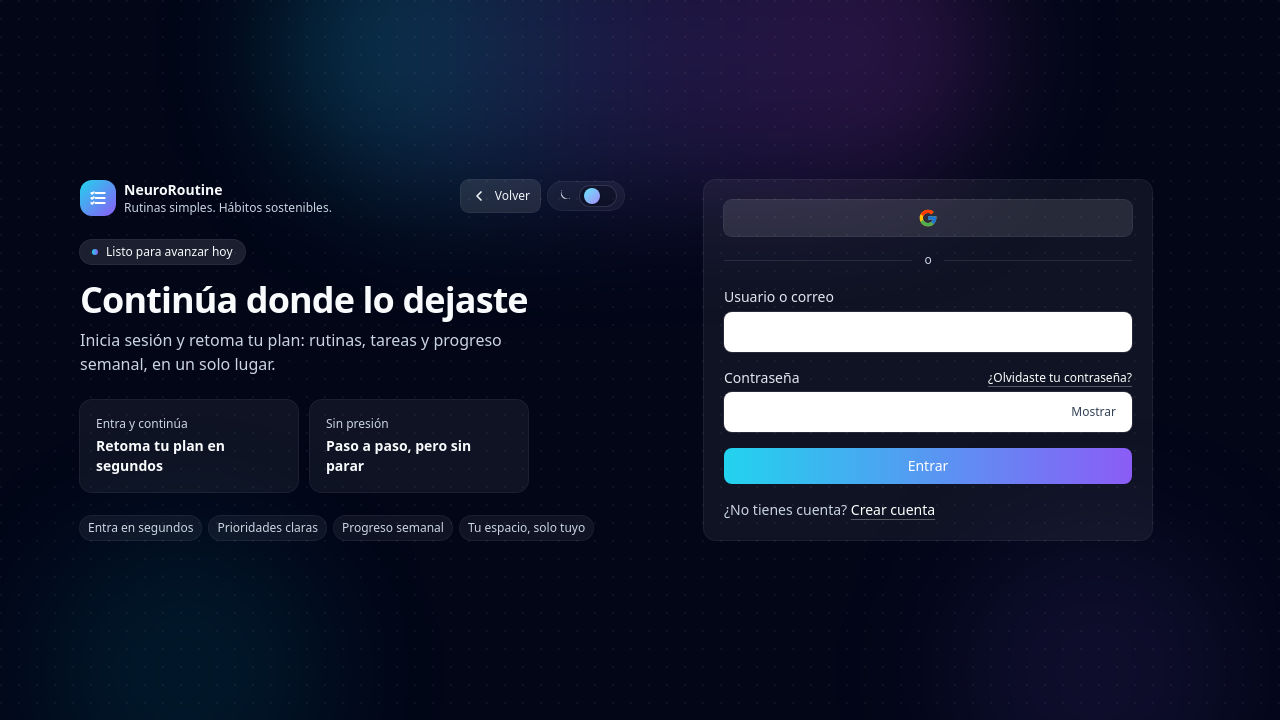
Scenario: LoginPage › shows a generic error message when sign-in fails with a non-Error value
In the field with test id "login-identifier": (928,332) [724,312,1132,352], type "me@example.com"
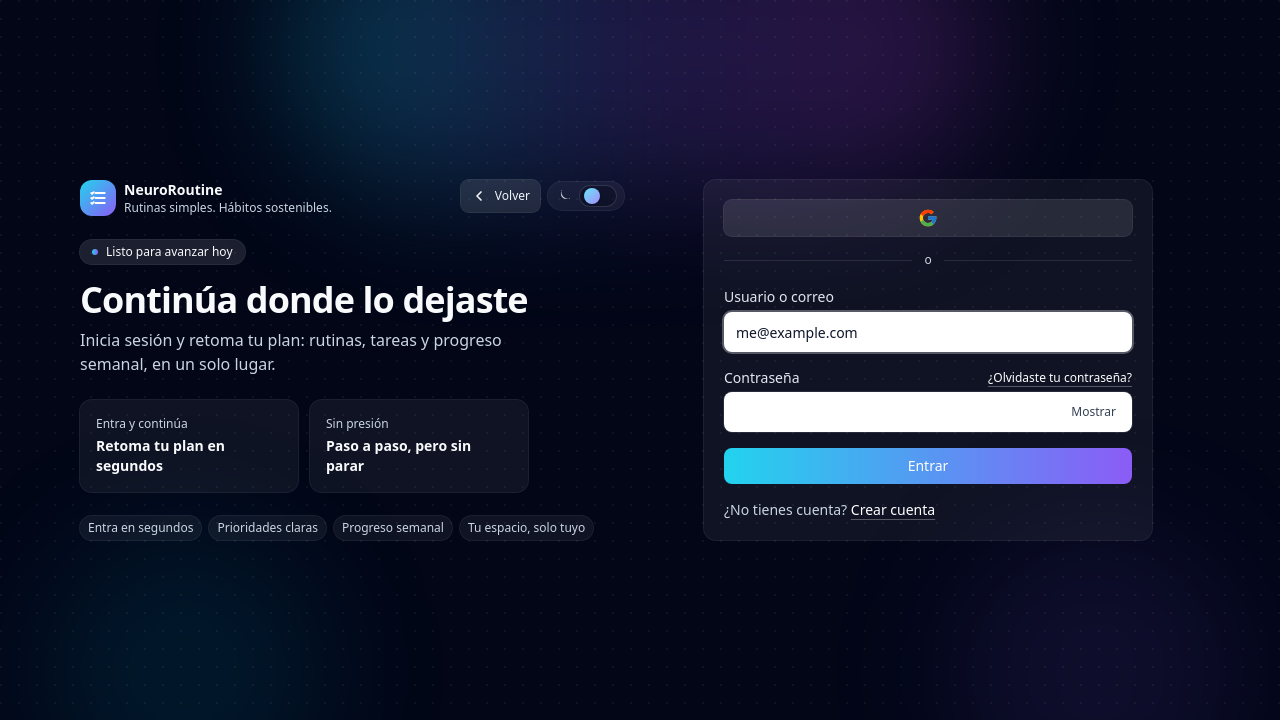
In the password field with test id "login-password": (928,412) [724,392,1132,432], type "secret123"
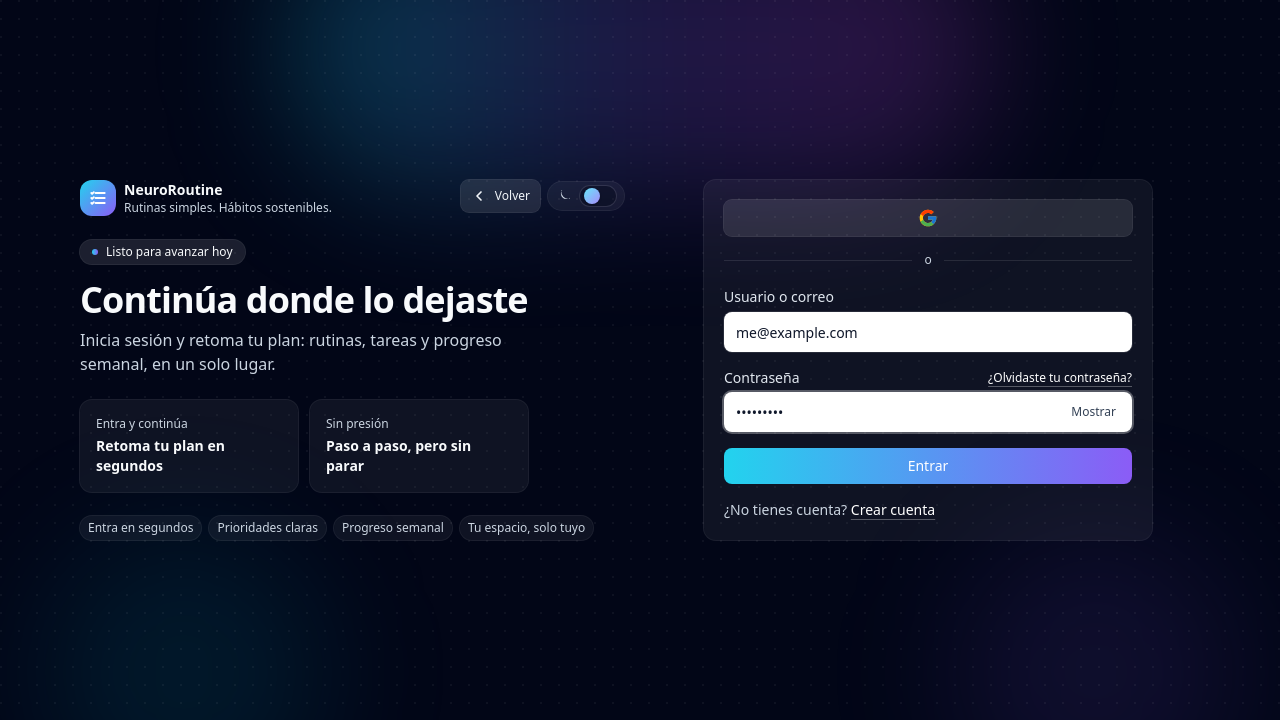
Click the button with test id "login-submit": (928,466) [724,448,1132,484]
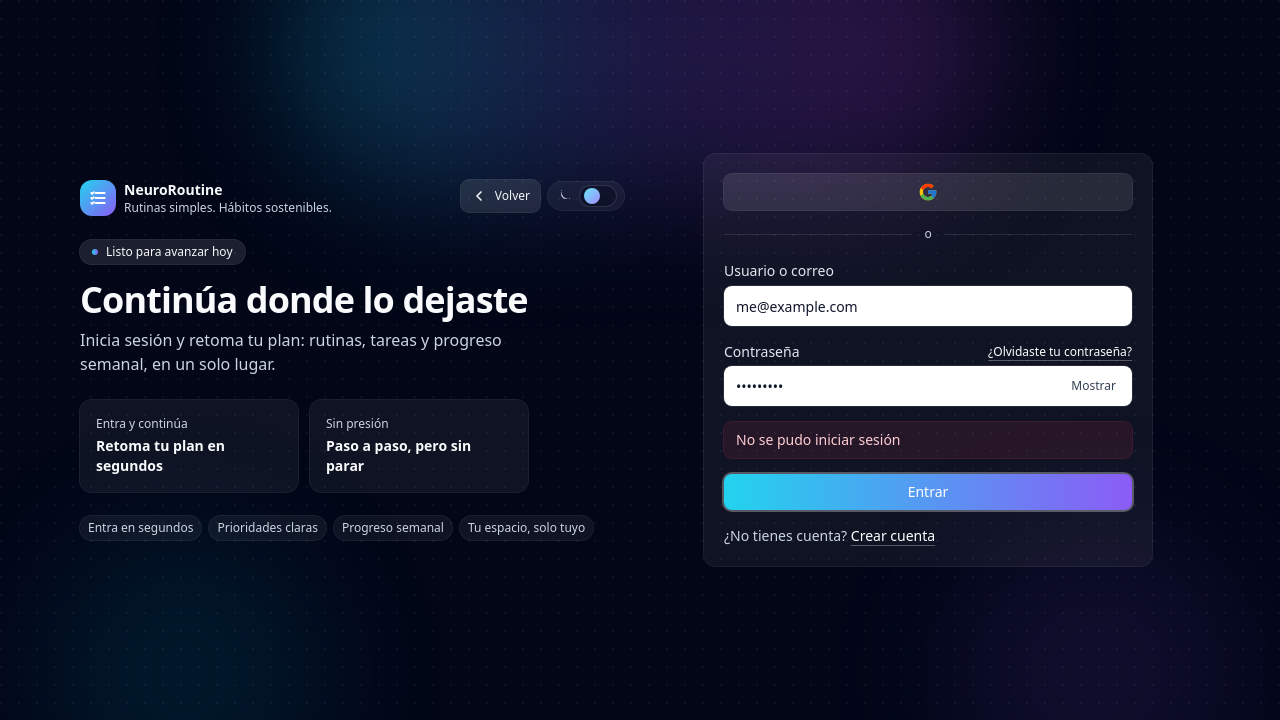
Check: the text "No se pudo iniciar sesión" is shown, box [724,422,1132,458]
